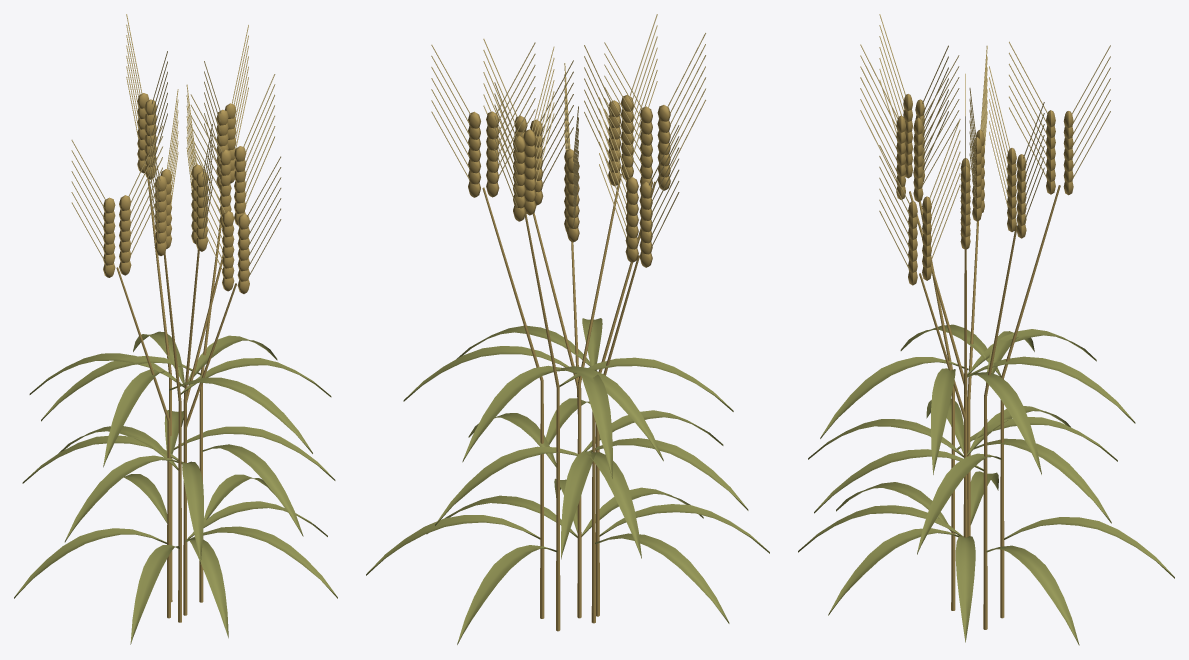
The model's file is cebada.glb.
3 renders of one model, left to right at view 1: azimuth 30°, elevation 25°; view 2: azimuth 150°, elevation 25°; view 3: azimuth 270°, elevation 25°, orthographic. The views are drawn at different scales.
Visible parts, largest first — view 1: cebada; view 2: cebada; view 3: cebada.
Part boxes in pixels (x1,y1,x2,y2): cebada: (14, 14, 337, 644); cebada: (366, 14, 769, 644); cebada: (798, 14, 1174, 645).
Size of the model in its own units: 0.6962 by 1.21 by 0.7177.
